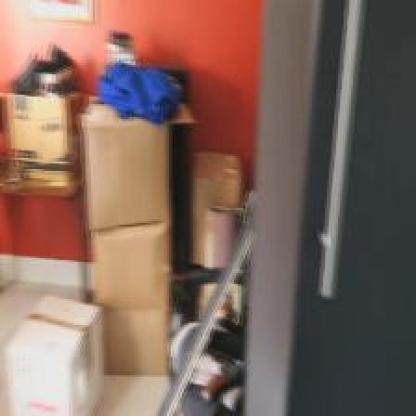other: (175, 12, 249, 131)
